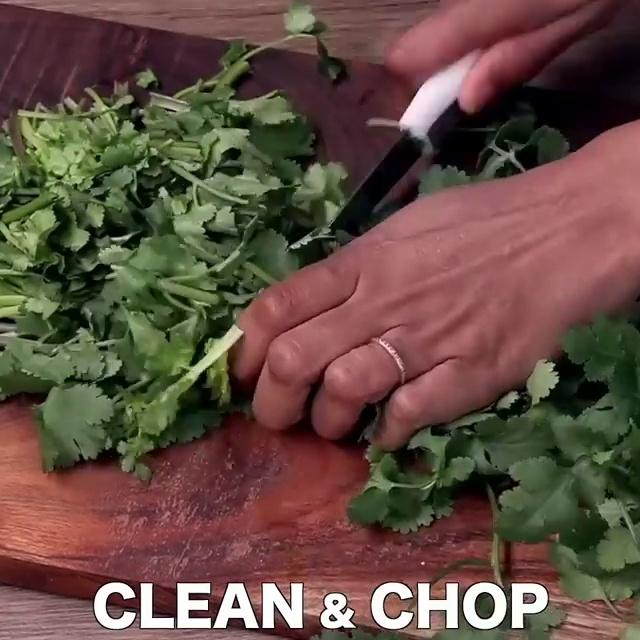cilantro: (0, 70, 228, 419), (523, 333, 640, 590)
